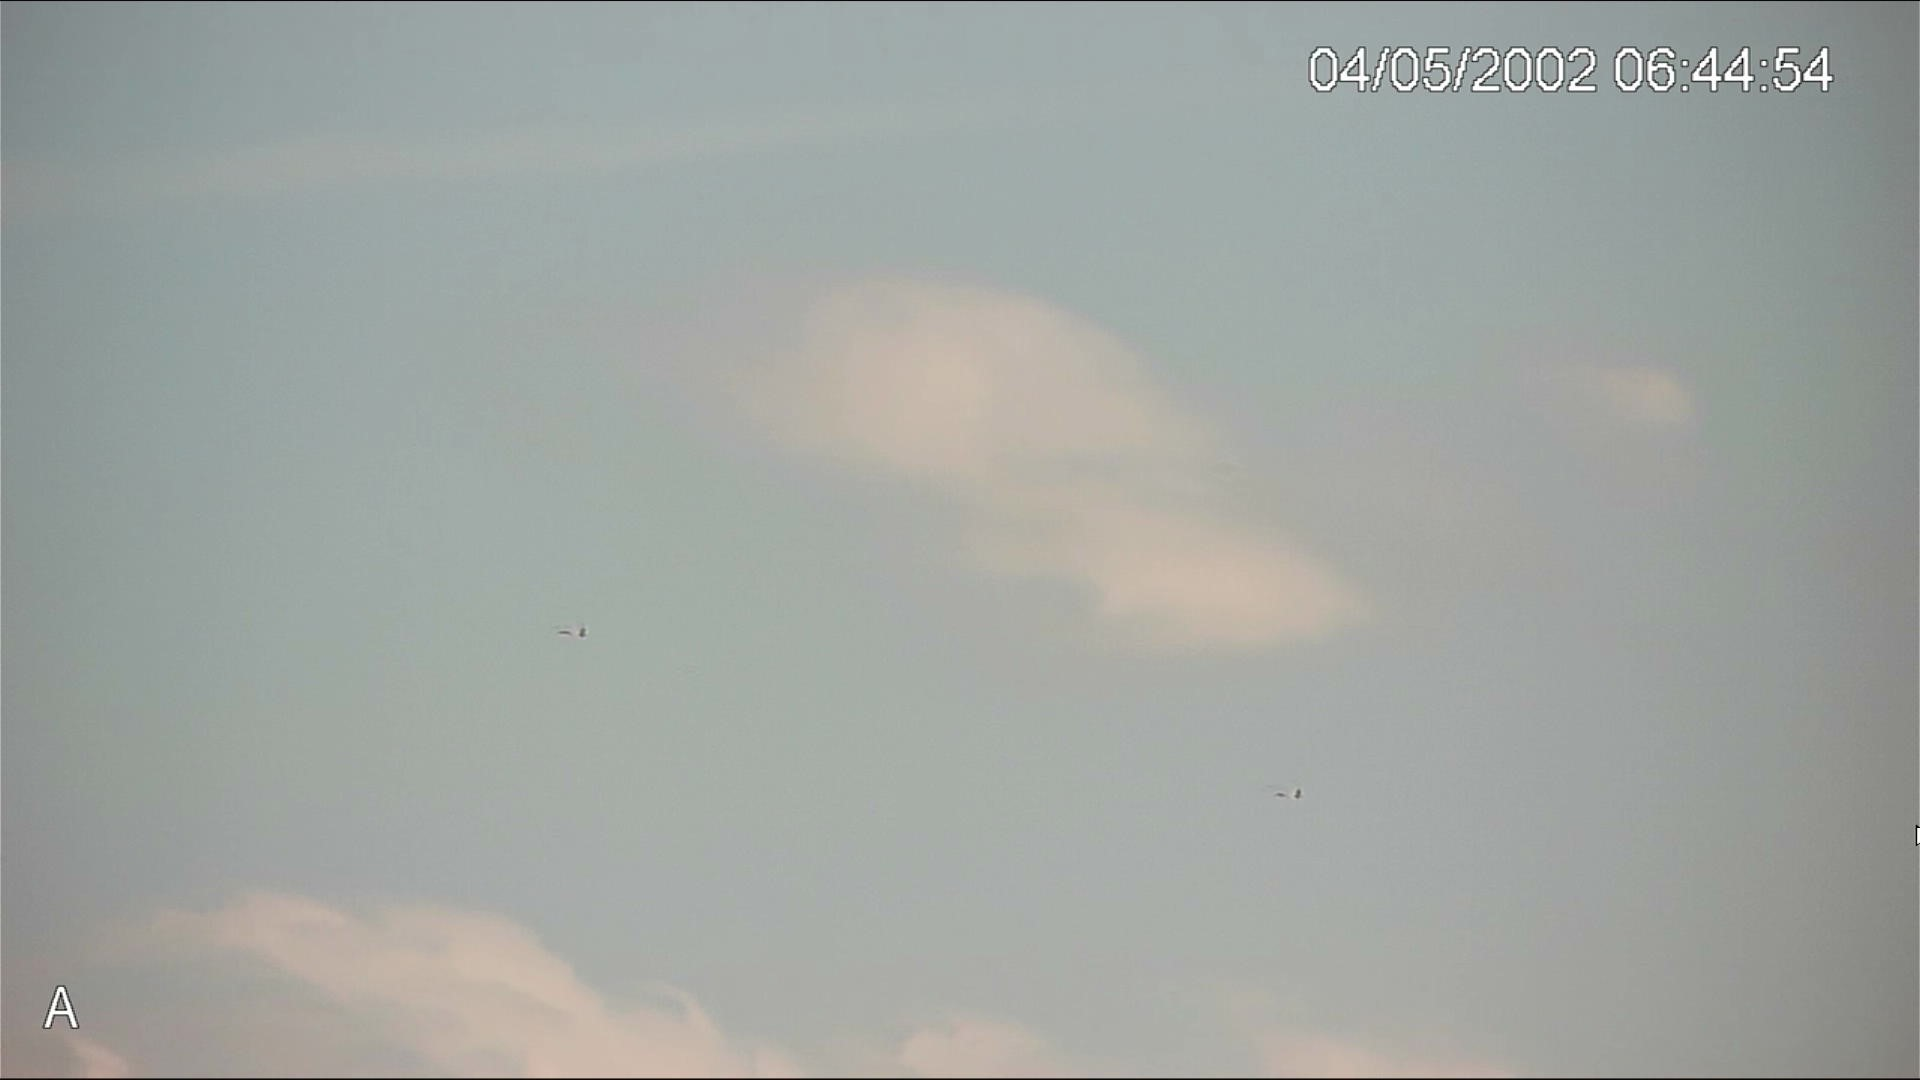SU_30: (553, 622, 593, 644), (1270, 785, 1305, 800)
